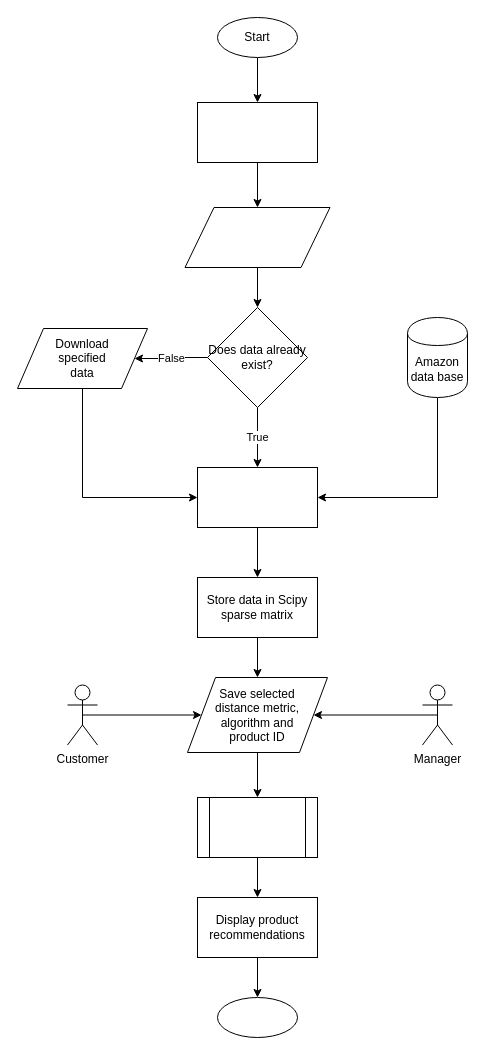
The diagram is 485 pixels wide and 1055 high, and some of its shapes have lost their labels. The shapes that lost their labels are listed below. From the top down, each one's centre as x and y in pixels, then its label:
At point (257, 132): "Start web-application server".
At point (257, 237): "Save selected product category".
At point (257, 497): "Create Pandas DataFrame".
At point (257, 827): "Run k-nearest neighbors algorithm".
At point (257, 1017): "End".
